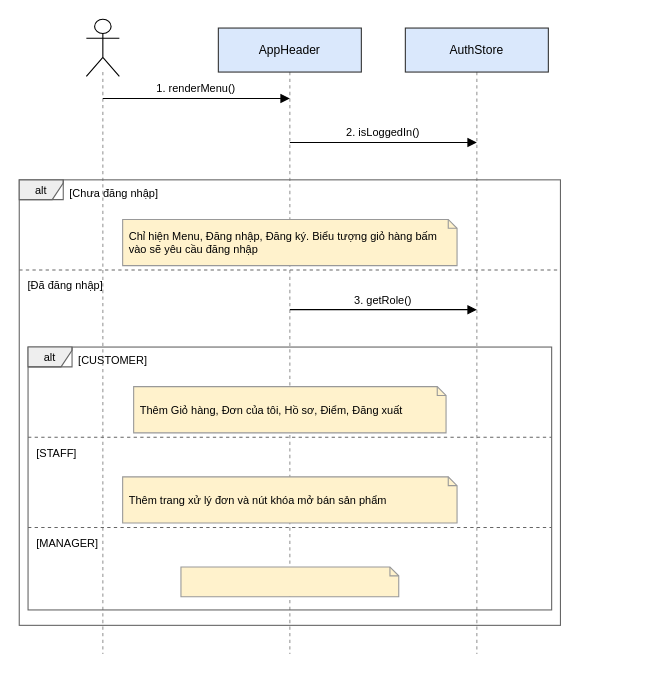
The diagram is 646 pixels wide and 674 high, and some of its shapes have lost their labels. Here are the shapes that lost their labels. From the top down, the centre of each, then its label:
At point (102, 47): "Người dùng".
At point (289, 581): "Thêm toàn bộ trang quản trị".
